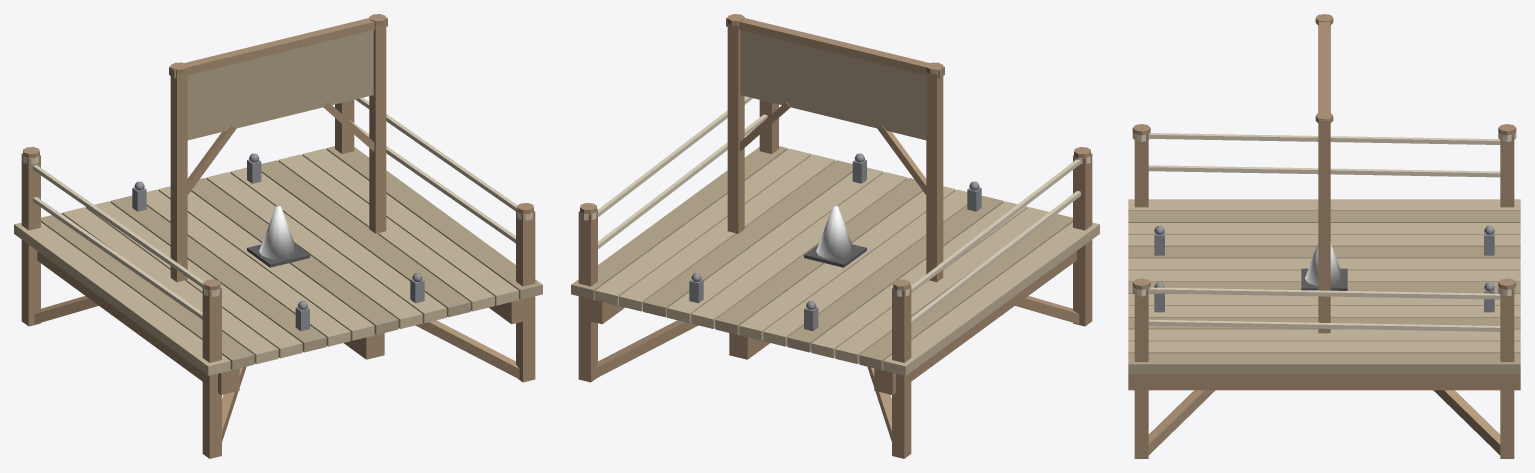
Rendered from island_xing.glb.
3 renders of one model, left to right at view 1: azimuth 30°, elevation 25°; view 2: azimuth 150°, elevation 25°; view 3: azimuth 270°, elevation 25°, orthographic.
Visible parts, largest first — view 1: ix_deck_mesh, ix_signframe_mesh, ix_cone_mesh; view 2: ix_deck_mesh, ix_signframe_mesh, ix_cone_mesh; view 3: ix_deck_mesh, ix_signframe_mesh, ix_cone_mesh.
Part boxes in pixels (x1,y1,x2,y2): ix_deck_mesh: (14,97,542,458); ix_signframe_mesh: (169,14,387,282); ix_cone_mesh: (247,205,309,267); ix_deck_mesh: (571,96,1099,458); ix_signframe_mesh: (726,14,944,282); ix_cone_mesh: (804,205,866,267); ix_deck_mesh: (1128,124,1520,458); ix_signframe_mesh: (1315,14,1333,333); ix_cone_mesh: (1301,243,1347,290).
Bounding box in the file's own units: 4.38 × 3.87 × 4.4.
